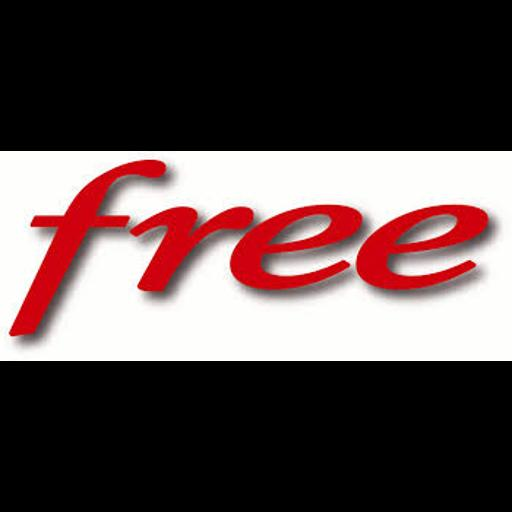Free ISP: (0, 151, 512, 361)
